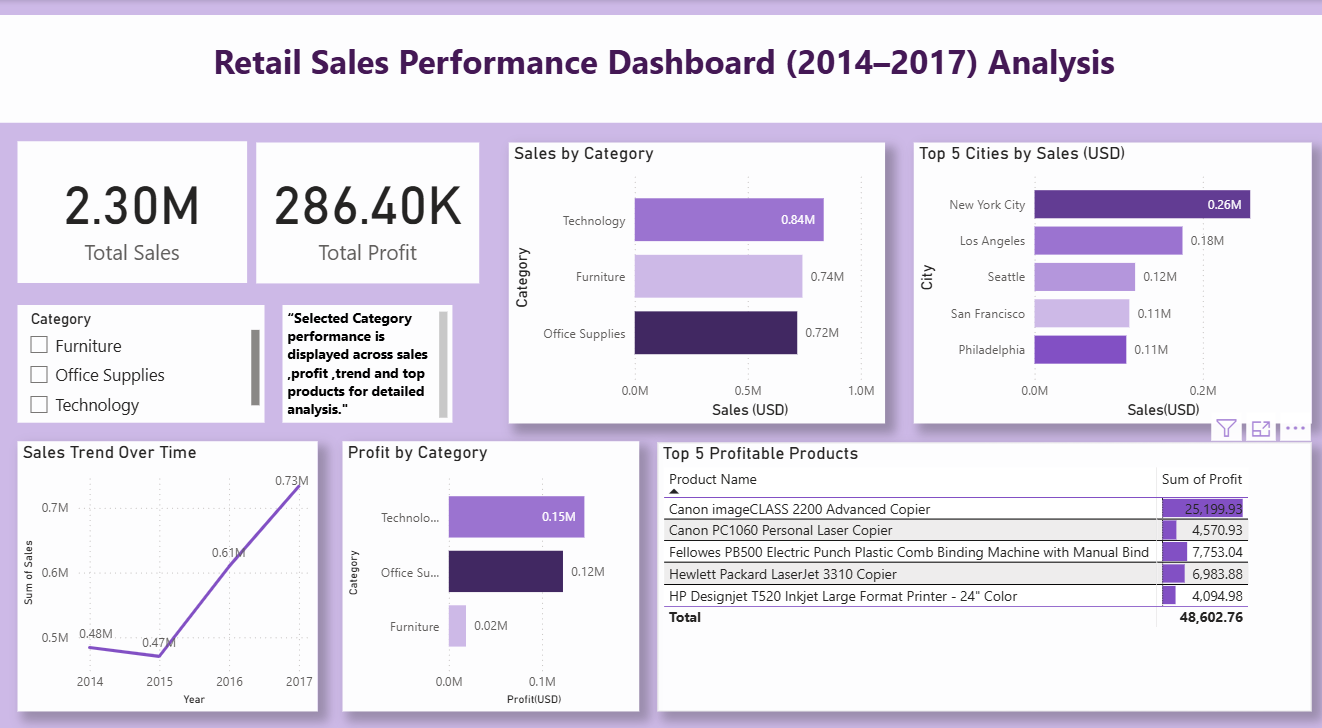

What the dashboard file says about the page in this screenshot:
{"tool":"powerbi","page":{"name":"Page 1","canvas":[1280,720],"ordinal":0},"visuals":[{"type":"card","fields":{"Values":["Sum(Superstore.Sales)"]},"box":[17.1,135.7,221.3,137],"z":0},{"type":"clusteredBarChart","title":"Sales by Category","fields":{"Category":["Superstore.Category"],"Y":["Sum(Superstore.Sales)"]},"box":[491.6,137,363.2,271.5],"z":1000},{"type":"card","fields":{"Values":["Sum(Superstore.Profit)"]},"box":[247,137,215.2,135.7],"z":2000},{"type":"clusteredBarChart","title":"Top 5 Cities by Sales (USD)","fields":{"Category":["Superstore.City"],"Y":["Sum(Superstore.Sales)"]},"box":[881.7,137,384,271.5],"z":3000},{"type":"tableEx","title":"Top 5 Profitable Products","fields":{"Values":["Superstore.Product Name","Sum(Superstore.Profit)"]},"box":[634.7,426.8,631,259.2],"z":4000},{"type":"slicer","fields":{"Values":["Superstore.Category"]},"box":[17.1,294.7,238.5,113.7],"z":5000},{"type":"lineChart","title":"Sales Trend Over Time","fields":{"Y":["Sum(Superstore.Sales)"],"Category":["Superstore.Order Date.Variation.Date Hierarchy.Year"]},"box":[17.1,425.5,289.8,260.5],"z":6000},{"type":"textbox","box":[0,14.7,1280.3,103.9],"z":7000},{"type":"barChart","title":"Profit by Category","fields":{"Category":["Superstore.Category"],"Y":["Sum(Superstore.Profit)"]},"box":[330.2,425.5,286.1,260.5],"z":8000},{"type":"textbox","box":[272.7,294.7,163.9,113.7],"z":9000}]}

Visuals, with their boxes in screenshot pixels (x1, y1, x2, y2), scaled from the page's 1280x720 canvas onto the 1322x728 screenshot:
card - Sum(Superstore.Sales): [18,137,246,276]
"Sales by Category" clusteredBarChart: [508,139,883,413]
card - Sum(Superstore.Profit): [255,139,477,276]
"Top 5 Cities by Sales (USD)" clusteredBarChart: [911,139,1307,413]
"Top 5 Profitable Products" tableEx: [656,432,1307,694]
slicer - Superstore.Category: [18,298,264,413]
"Sales Trend Over Time" lineChart: [18,430,317,694]
textbox: [0,15,1321,120]
"Profit by Category" barChart: [341,430,637,694]
textbox: [282,298,451,413]
